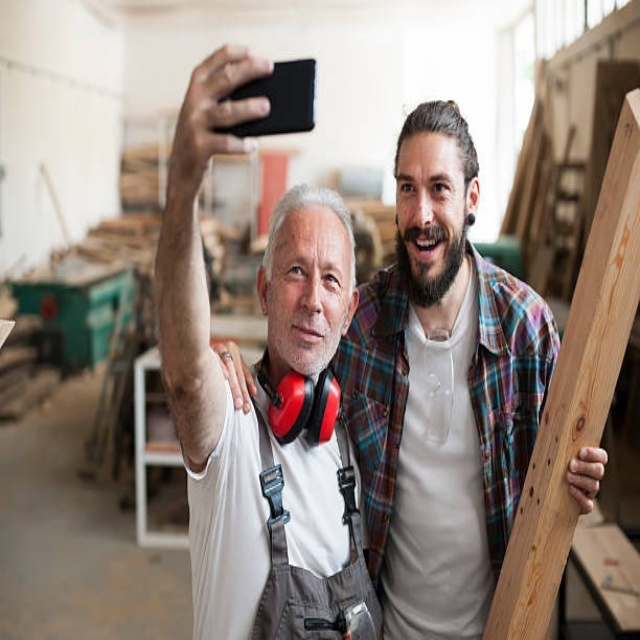Sin_gafas: (277, 251, 346, 298), (395, 165, 459, 202)
Sin_guantes: (168, 43, 274, 200), (566, 444, 608, 513)
Sin_mascara: (405, 226, 449, 271), (288, 315, 328, 358)
